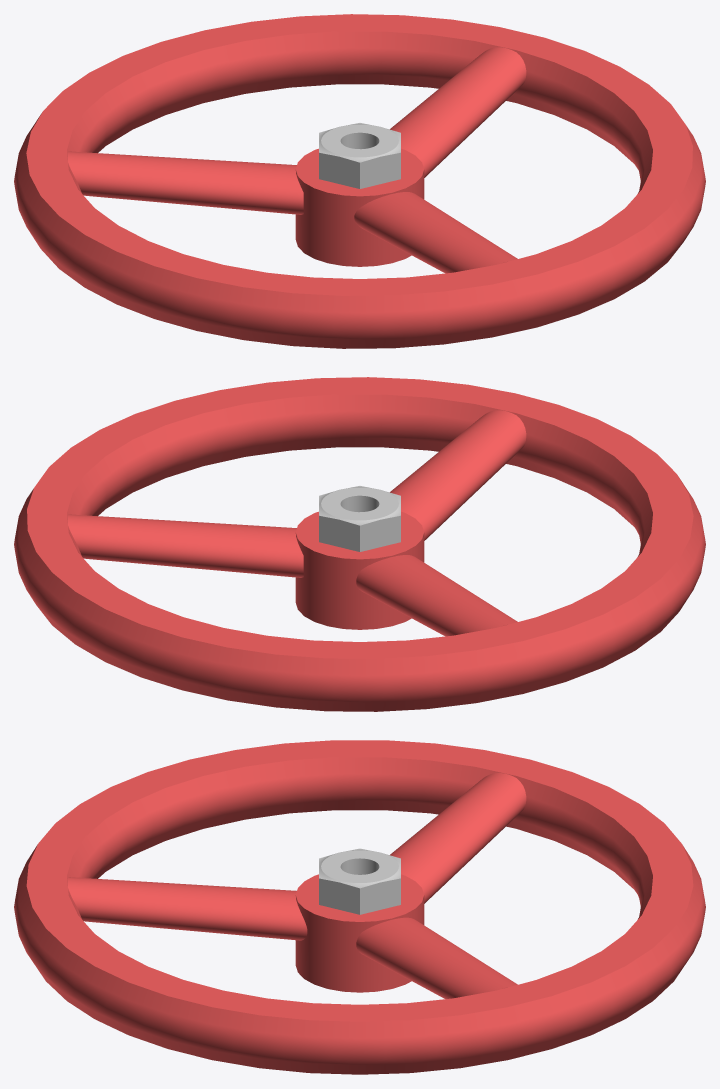
File: valve_handle.dae
3 views of the same model, one above another, from view 1: azimuth 30°, elevation 25°; view 2: azimuth 150°, elevation 25°; view 3: azimuth 270°, elevation 25° (orthographic).
Parts seen in each view (by area): view 1: valve_handle; view 2: valve_handle; view 3: valve_handle.
Boxes of the visible parts, <box> form: valve_handle: <box>14,14,705,348</box>; valve_handle: <box>14,377,705,711</box>; valve_handle: <box>14,740,705,1074</box>.
Bounding box in the file's own units: 0.1772 × 0.1777 × 0.028.
